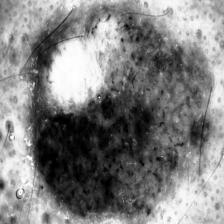Benign Marking or Mole: (30, 23, 196, 210)
